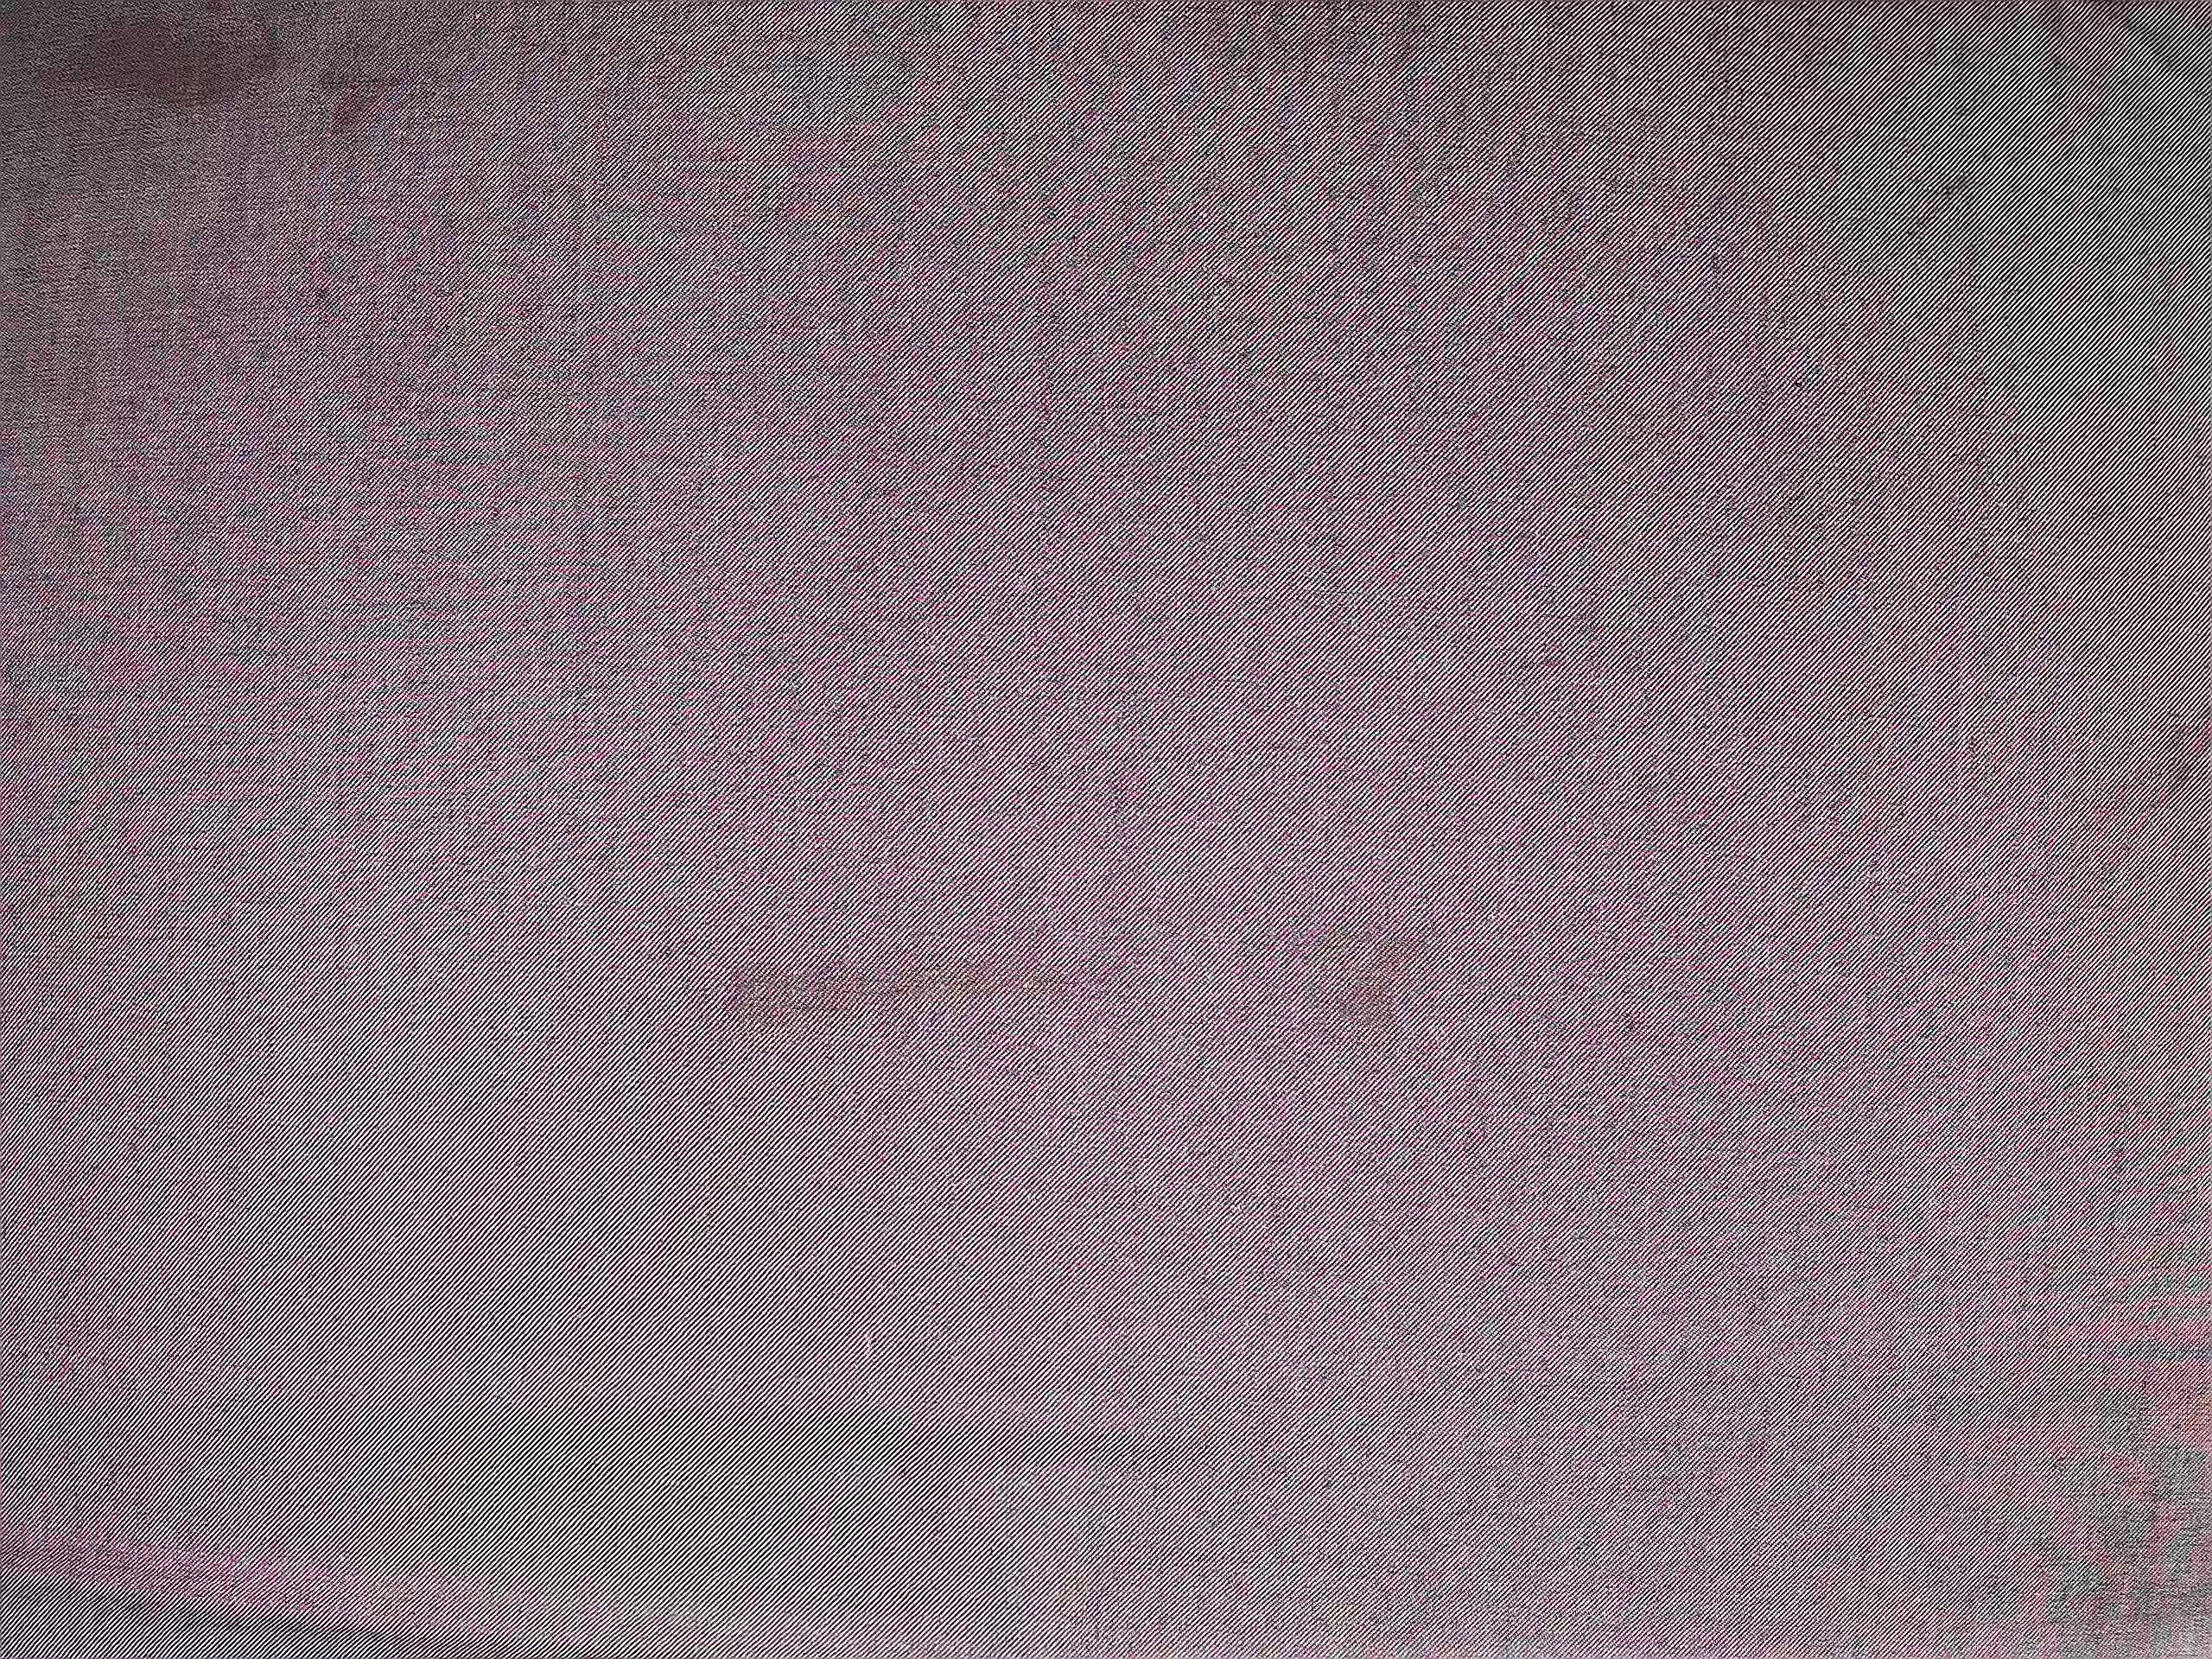stains: (1, 10, 376, 407), (711, 904, 1117, 1053), (2053, 1393, 2206, 1659), (1294, 885, 1436, 1053)
